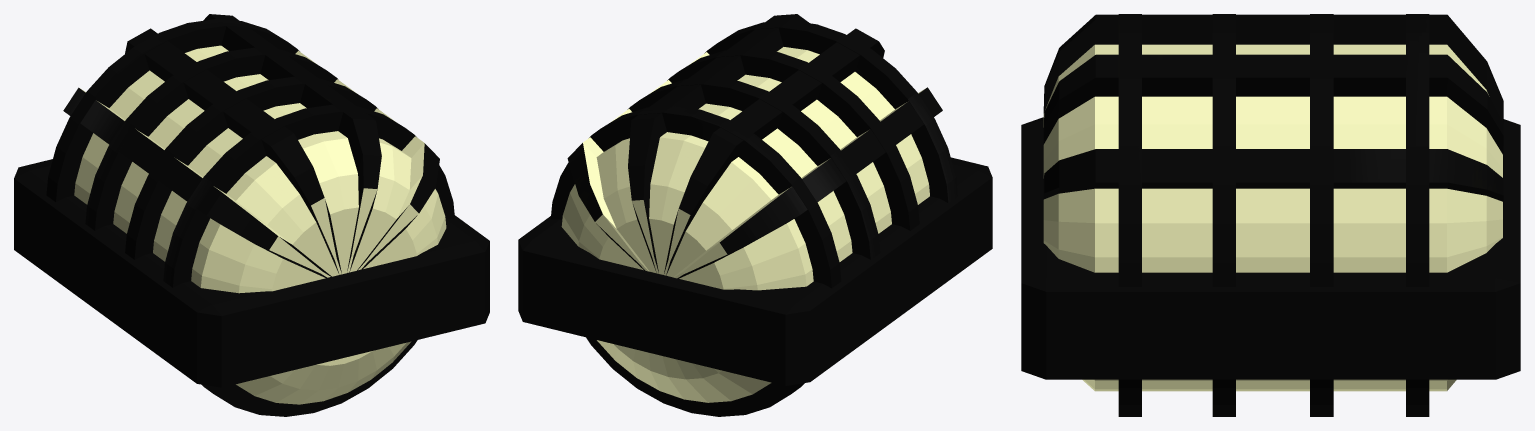
The model's file is lamp.gltf.
The picture shows the model from 3 angles, left to right: view 1: azimuth 30°, elevation 25°; view 2: azimuth 150°, elevation 25°; view 3: azimuth 270°, elevation 25°; orthographic projection. The views are drawn at different scales.
Parts seen in each view (by area): view 1: Lamp; view 2: Lamp; view 3: Lamp.
Boxes of the visible parts, x1,y1,x2,y2 form: Lamp: [14, 14, 489, 416]; Lamp: [518, 14, 992, 416]; Lamp: [1021, 14, 1520, 416].
Size of the model in its own units: 2.36 by 2.29 by 2.84.
Materials: 1 (1 with a texture image).
